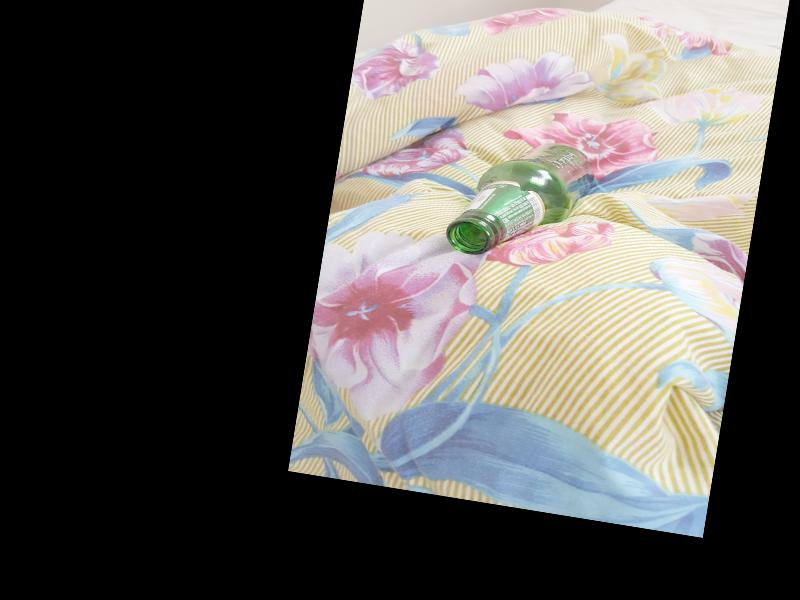Beer: (441, 128, 598, 273)
